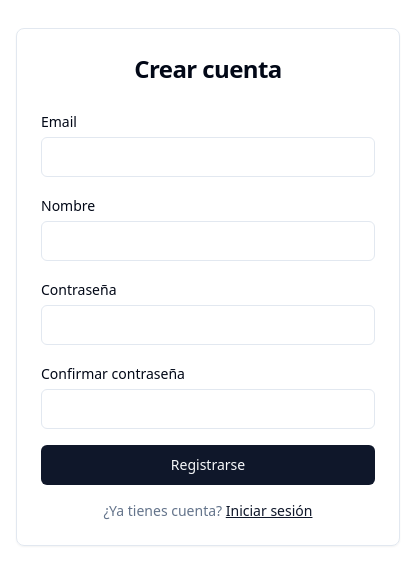
Test: RegisterPage — validación Zod › muestra error cuando confirmPassword no coincide con password (CA-05)
Type "new@test.com" into the field labelled "Email" at (208, 157), box [41, 137, 375, 177]
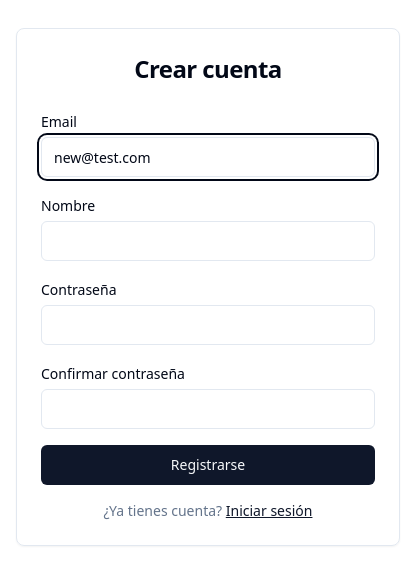
Type "Nuevo Usuario" into the field labelled "Nombre" at (208, 241), box [41, 221, 375, 261]
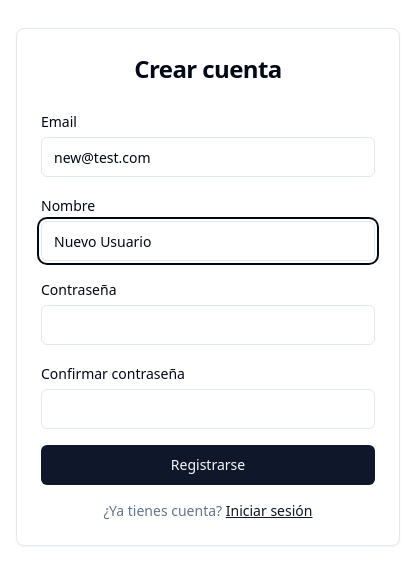
Type "Password1" into the password field labelled "Contraseña" at (208, 325), box [41, 305, 375, 345]
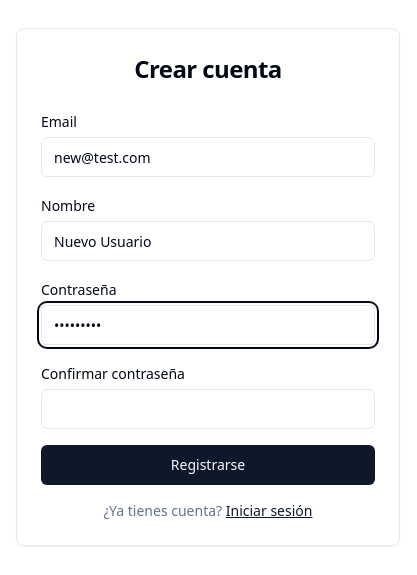
Type "Different1" into the password field labelled "Confirmar contraseña" at (208, 409), box [41, 389, 375, 429]
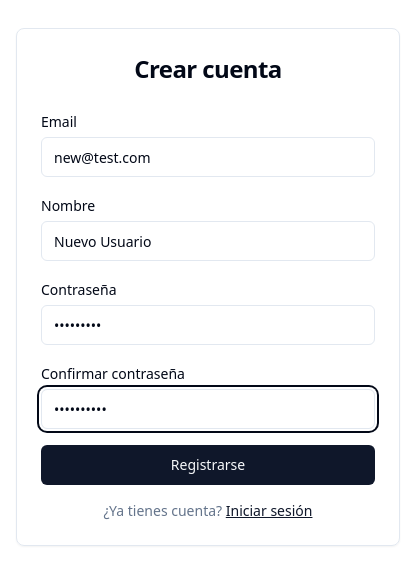
Click the button "Registrarse" at (208, 465), box [41, 445, 375, 485]
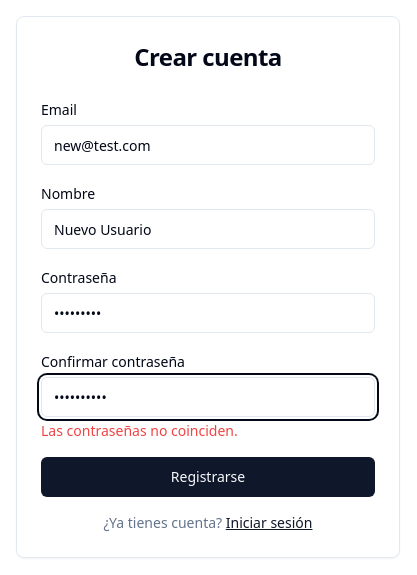
Check: the text "Las contraseñas no coinciden." is shown, box [41, 421, 238, 440]
